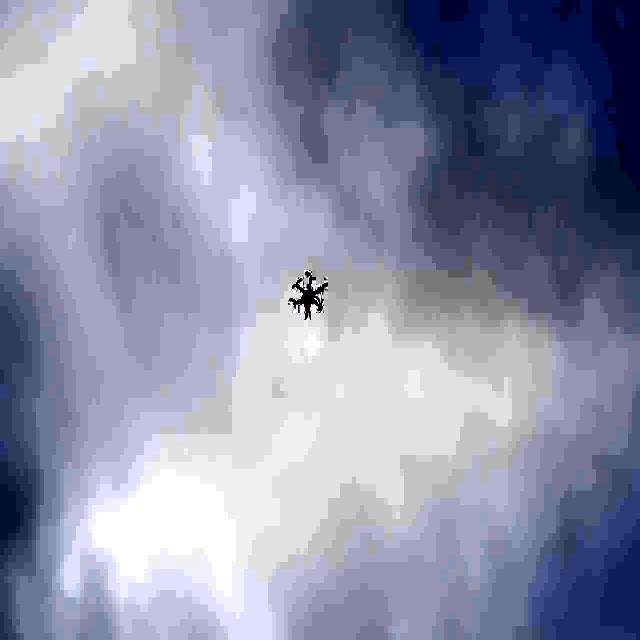drone: (287, 259, 328, 334)
